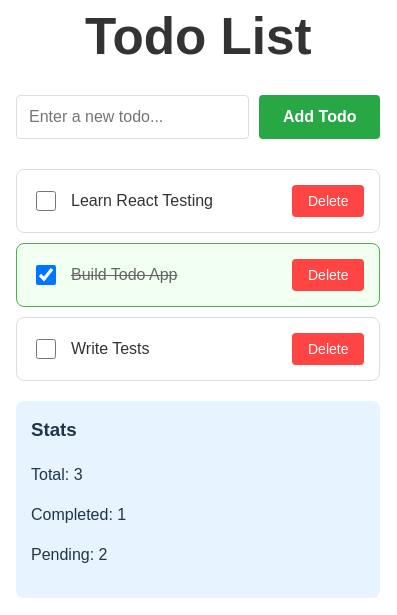
Scenario: deletes a todo
This screenshot has width=397, height=615.
Click the button "Delete" next to "Learn React Testing" at [328, 201], box [292,185,364,217]
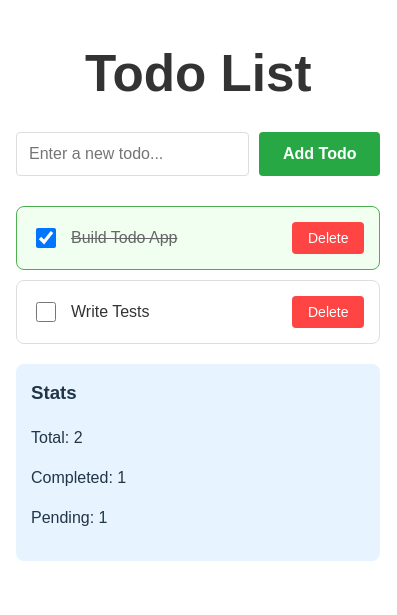
Expected: the text "Build Todo App" is shown, [71,229,178,246]
Now the text "Learn React Testing" is gone
Now the text "Total: 2" is shown, box [31,429,83,446]
